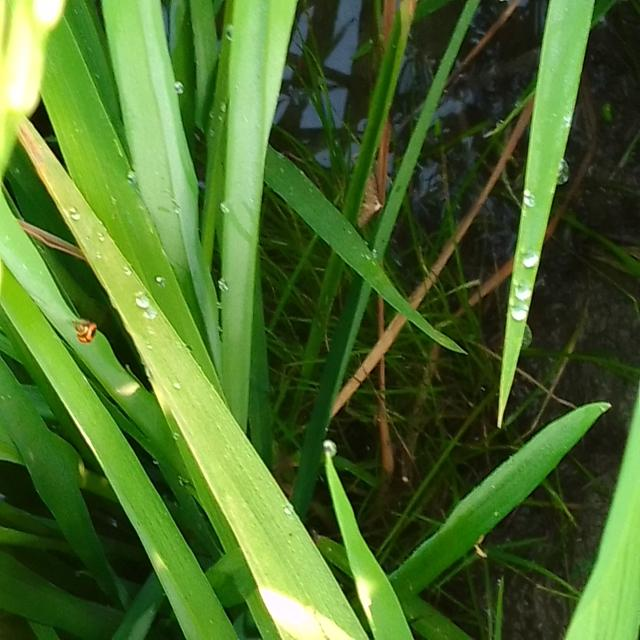Brown spot: (317, 1, 536, 427)
